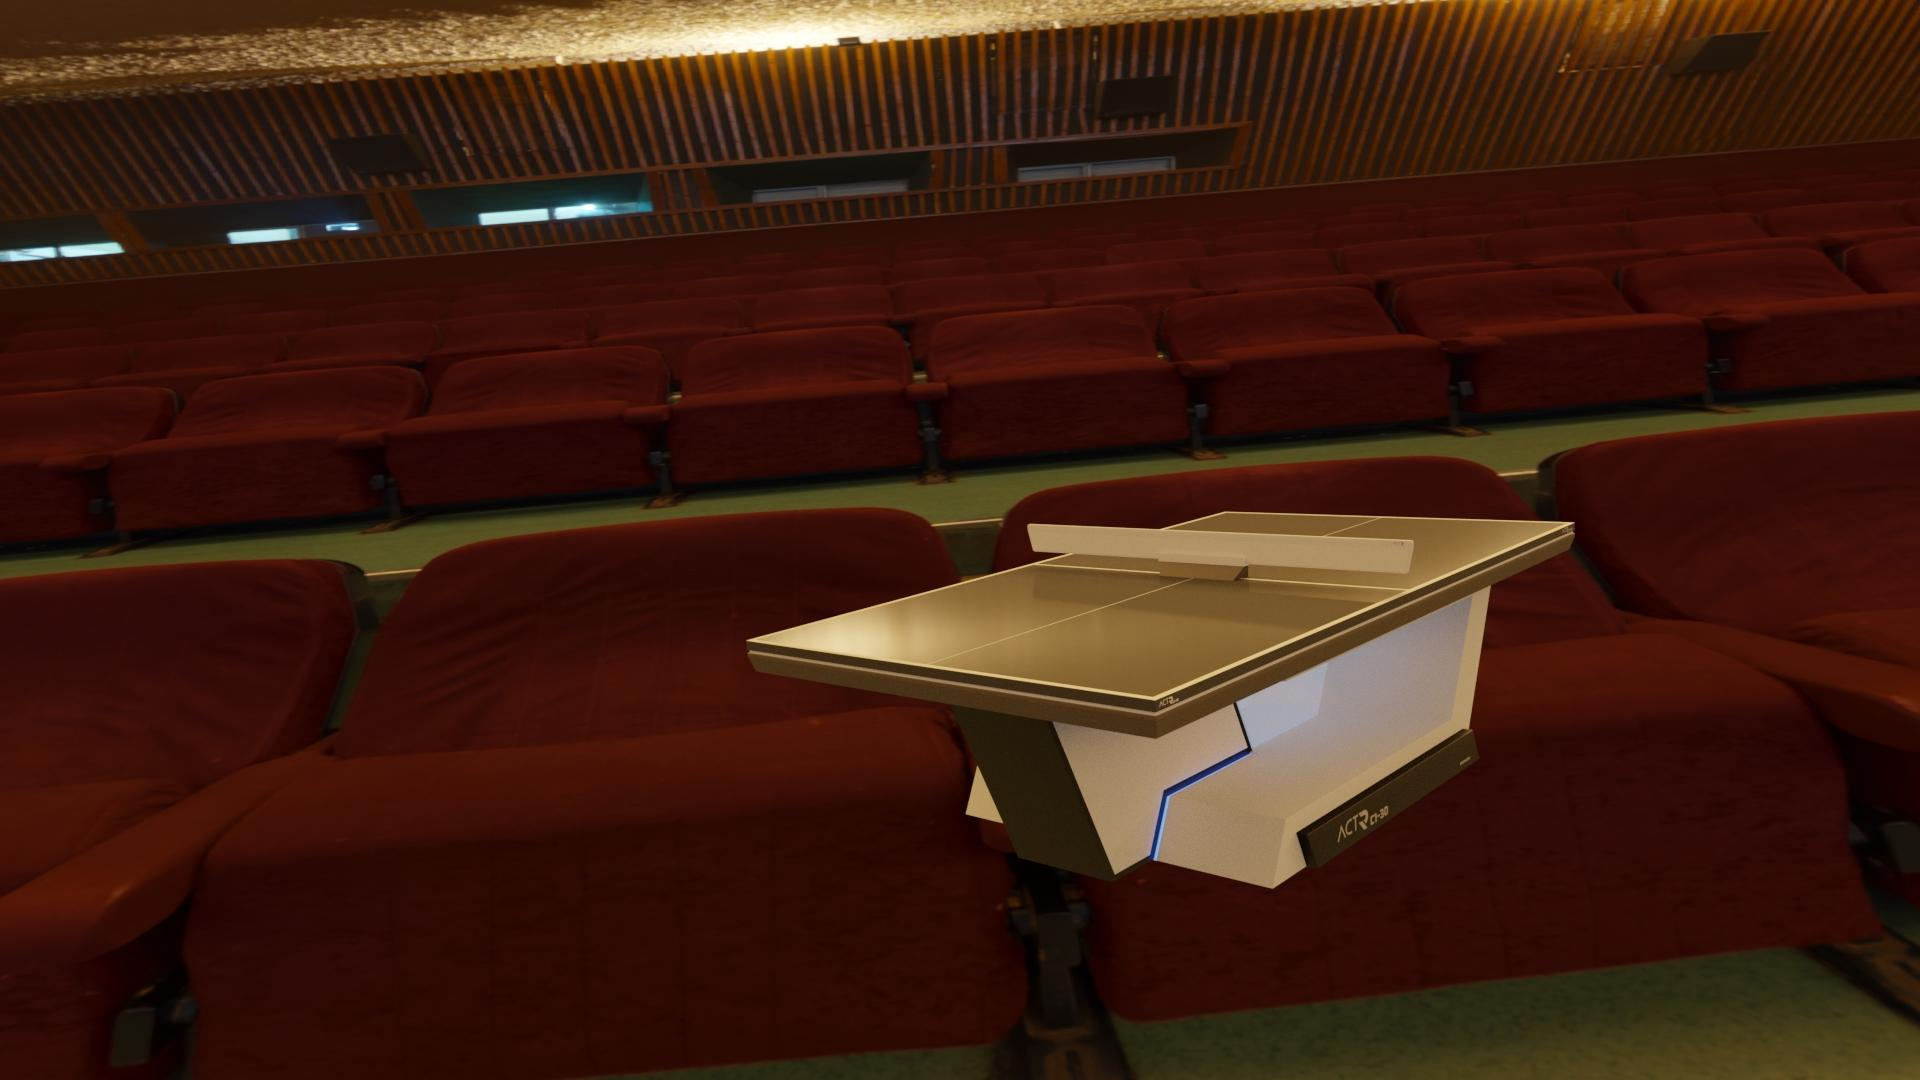table: (756, 513, 1568, 698)
